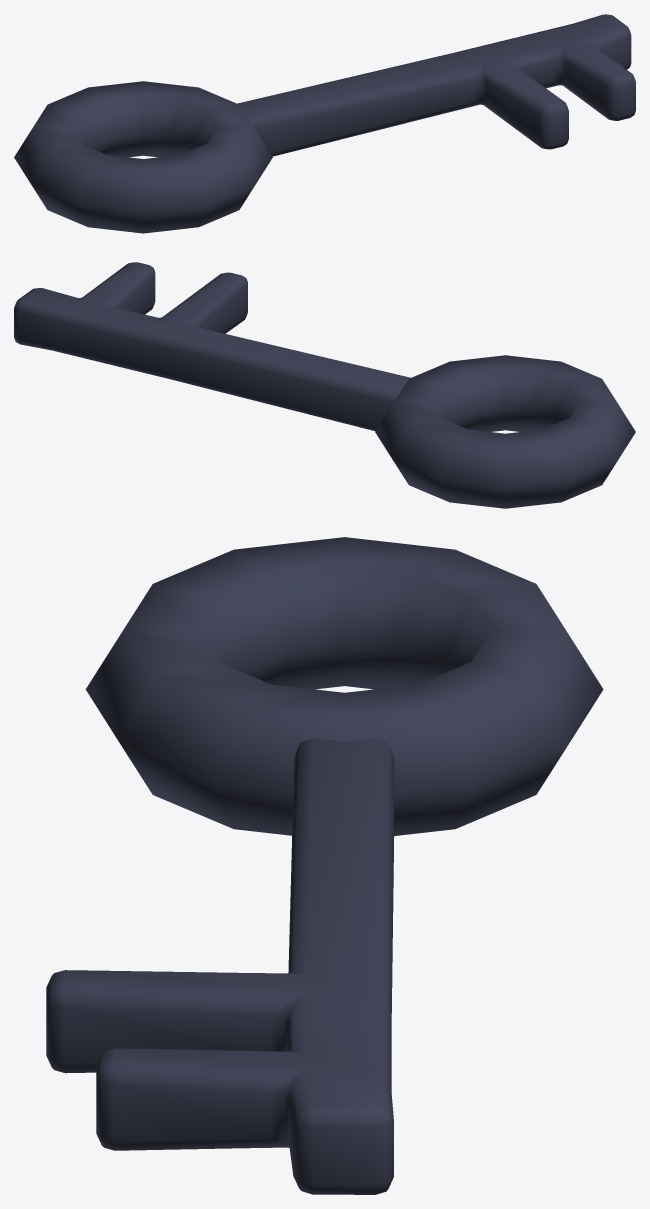
Rendered from Key1.glb.
3 views of the same model, one above another, from view 1: azimuth 30°, elevation 25°; view 2: azimuth 150°, elevation 25°; view 3: azimuth 270°, elevation 25° (orthographic). The views are drawn at different scales.
Visible parts, largest first — view 1: Torus; view 2: Torus; view 3: Torus.
Part boxes in pixels (x1,y1,x2,y2): Torus: (14, 14, 635, 233); Torus: (14, 262, 635, 508); Torus: (46, 537, 603, 1194).
Size of what is drawn, in the model's own units: 0.2196 by 0.0208 by 0.0896.
